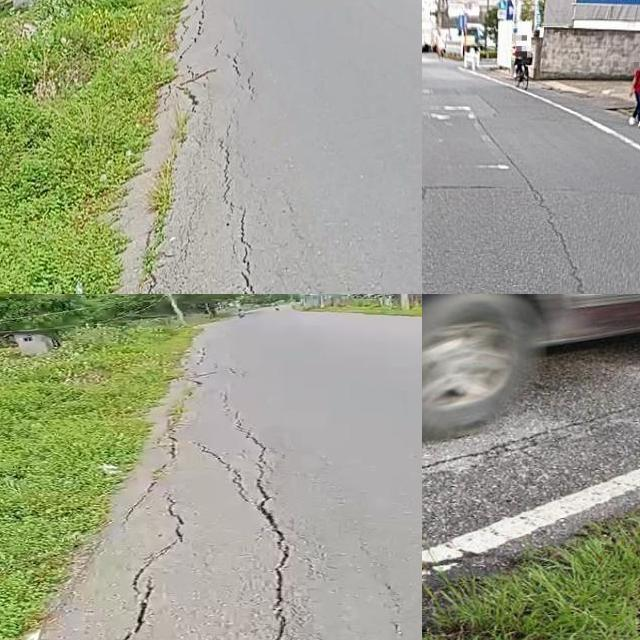Memanjang: (466, 119, 601, 294), (222, 409, 302, 640), (100, 494, 197, 640), (218, 172, 282, 294), (422, 184, 436, 293)
Pinggir: (55, 0, 222, 294)
